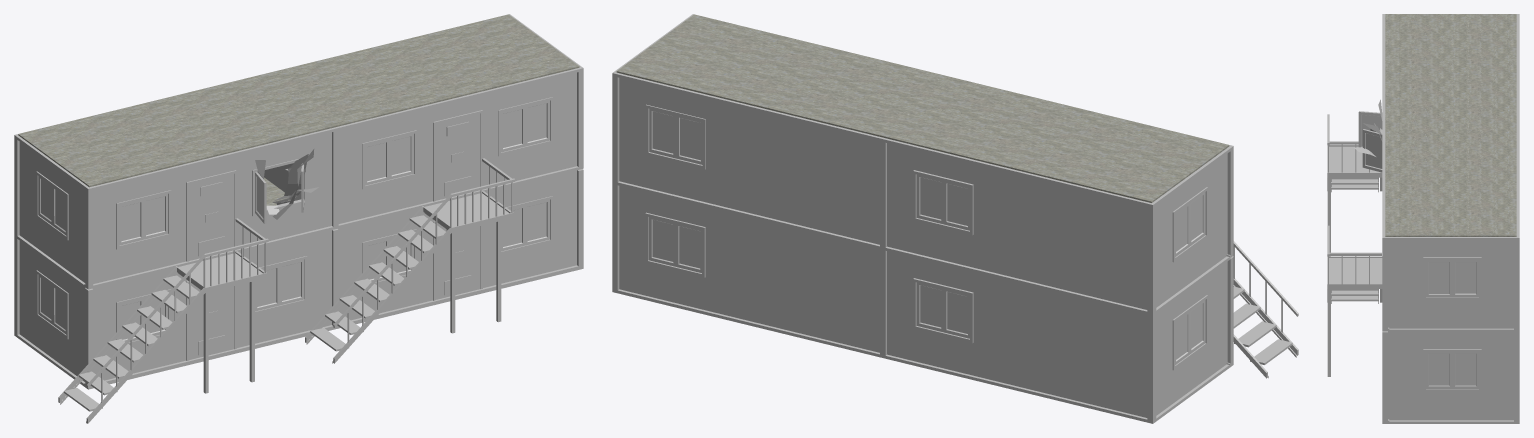
Rendered from MainMenuHouse.fbx.
3 renders of one model, left to right at view 1: azimuth 30°, elevation 25°; view 2: azimuth 150°, elevation 25°; view 3: azimuth 270°, elevation 25°, orthographic. The views are drawn at different scales.
Visible parts, largest first — view 1: ContainerHouseBody, Door4, Door3, Door2, Door1, Window2Right, Window5Right, Window5Left, Window8Left, Window4Right, Window7Right, Window7Left (+10 smaller); view 2: ContainerHouseBody, Window14Left, Window15Left, Window17Left, Window11Left, Window14Right, Window17Right, Window11Right, Window15Right, Window12Right, Window13Right, Window12Left (+1 smaller); view 3: ContainerHouseBody, Window10Right, Window10Left, Window9Right, Window9Left, Window6Right, Window6Left, StaircasePart4.
Part boxes in pixels (box(x1,y1,x2,y2)): ContainerHouseBody: box(14, 14, 583, 423); Door4: box(435, 113, 480, 200); Door3: box(189, 174, 233, 260); Door2: box(435, 223, 480, 299); Door1: box(189, 283, 233, 359); Window2Right: box(279, 259, 304, 305); Window5Right: box(143, 194, 168, 239); Window5Left: box(119, 200, 143, 245); Window8Left: box(501, 106, 525, 152); Window4Right: box(525, 199, 549, 245); Window7Right: box(389, 134, 413, 179); Window7Left: box(365, 140, 389, 185); ContainerHouseBody: box(612, 14, 1298, 423); Window14Left: box(649, 108, 676, 158); Window15Left: box(648, 217, 675, 266); Window17Left: box(916, 282, 943, 332); Window11Left: box(916, 174, 943, 224); Window14Right: box(676, 115, 702, 164); Window17Right: box(943, 289, 969, 338); Window11Right: box(943, 181, 969, 230); Window15Right: box(676, 223, 701, 272); Window12Right: box(1190, 300, 1205, 354); Window13Right: box(1190, 192, 1205, 245); Window12Left: box(1175, 311, 1189, 364); ContainerHouseBody: box(1327, 14, 1519, 423); Window10Right: box(1452, 260, 1478, 297); Window10Left: box(1426, 260, 1452, 297); Window9Right: box(1452, 352, 1478, 388); Window9Left: box(1426, 352, 1452, 388); Window6Right: box(1362, 129, 1382, 172); Window6Left: box(1358, 111, 1382, 147); StaircasePart4: box(1331, 290, 1378, 295).
Size of the model in its own units: 456 by 173 by 156.
